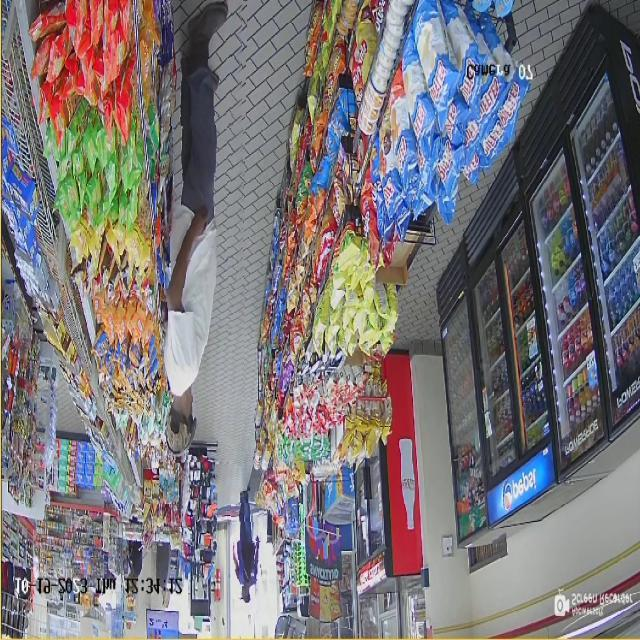Normal: (161, 0, 245, 464), (232, 491, 267, 610)
